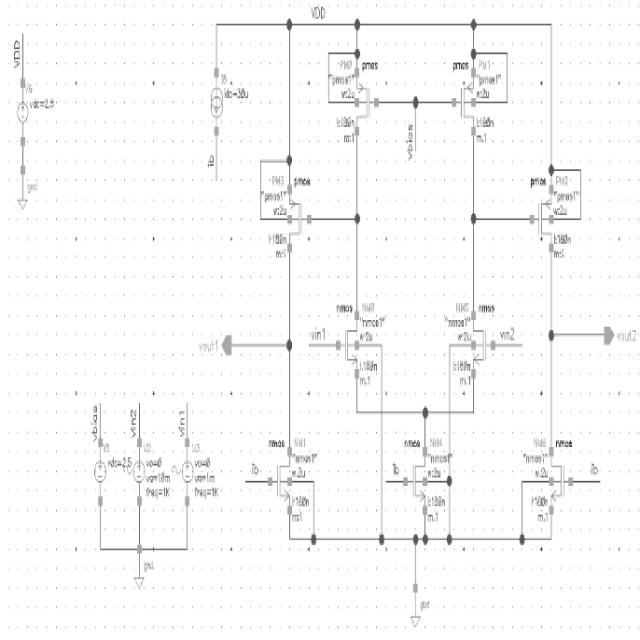idc: (207, 65, 225, 136)
nmos: (334, 301, 364, 383), (548, 436, 576, 521), (470, 301, 499, 382), (266, 435, 294, 516), (402, 435, 429, 514)
pmos: (450, 59, 480, 142), (353, 61, 384, 139), (284, 175, 314, 248), (528, 172, 554, 255)
vdc: (170, 439, 196, 519), (125, 438, 151, 508), (12, 78, 34, 152), (91, 438, 111, 509)
